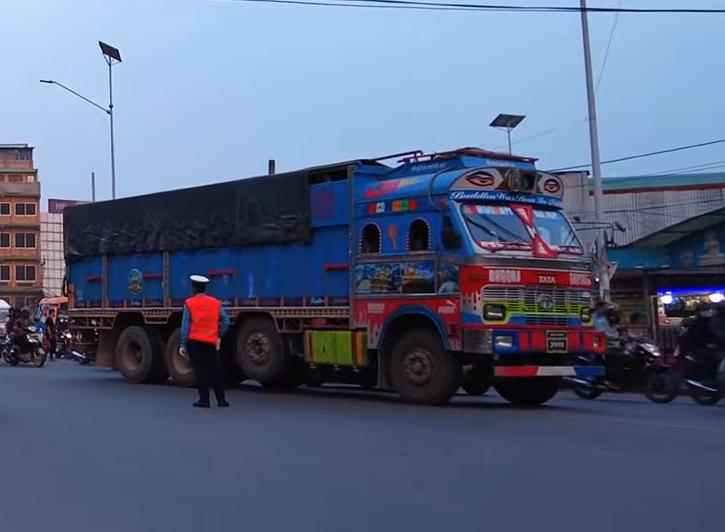bike: (572, 329, 681, 412)
scooter: (2, 324, 49, 371)
truck: (60, 144, 609, 406)
